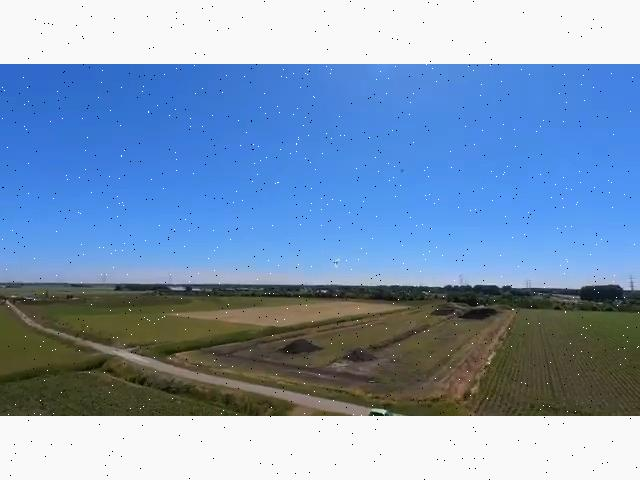Anti-Drone: (320, 252, 350, 276)
